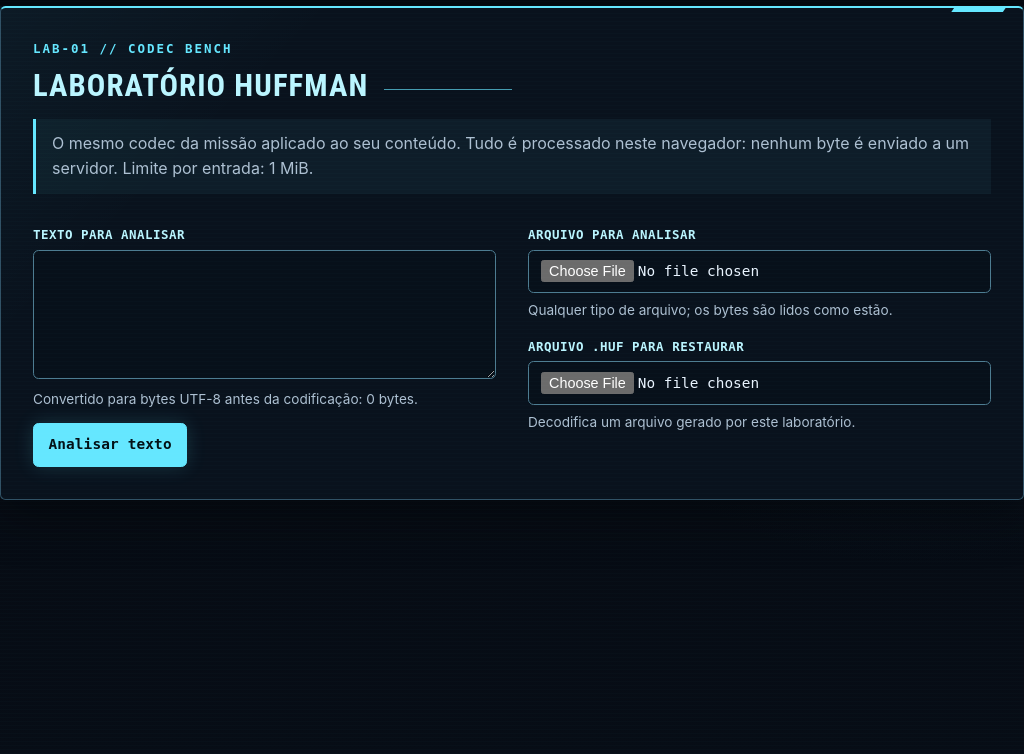
Scenario: LabTerminal › exibe o cabeçalho, as frequências com seus códigos e a árvore
This screenshot has width=1024, height=754.
Type "abracadabra abracadabra" into the text box labelled "Texto para analisar" at (264, 314), box [33,250,496,379]
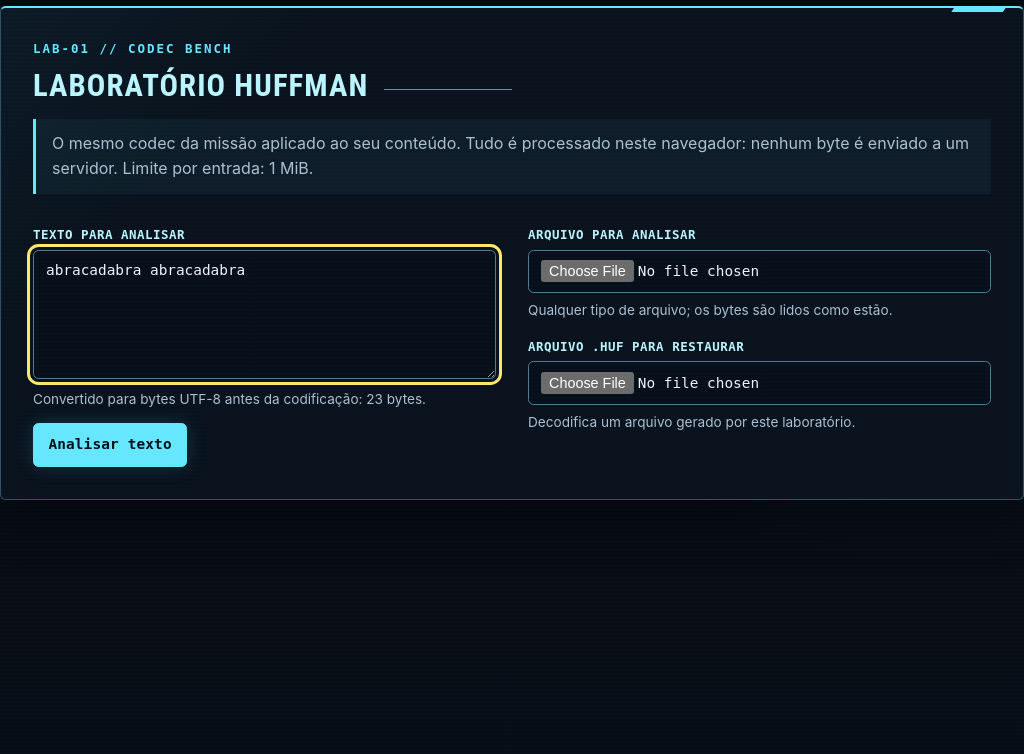
Click the button "Analisar texto" at (110, 445), box [33,423,187,467]
(page scrolled)
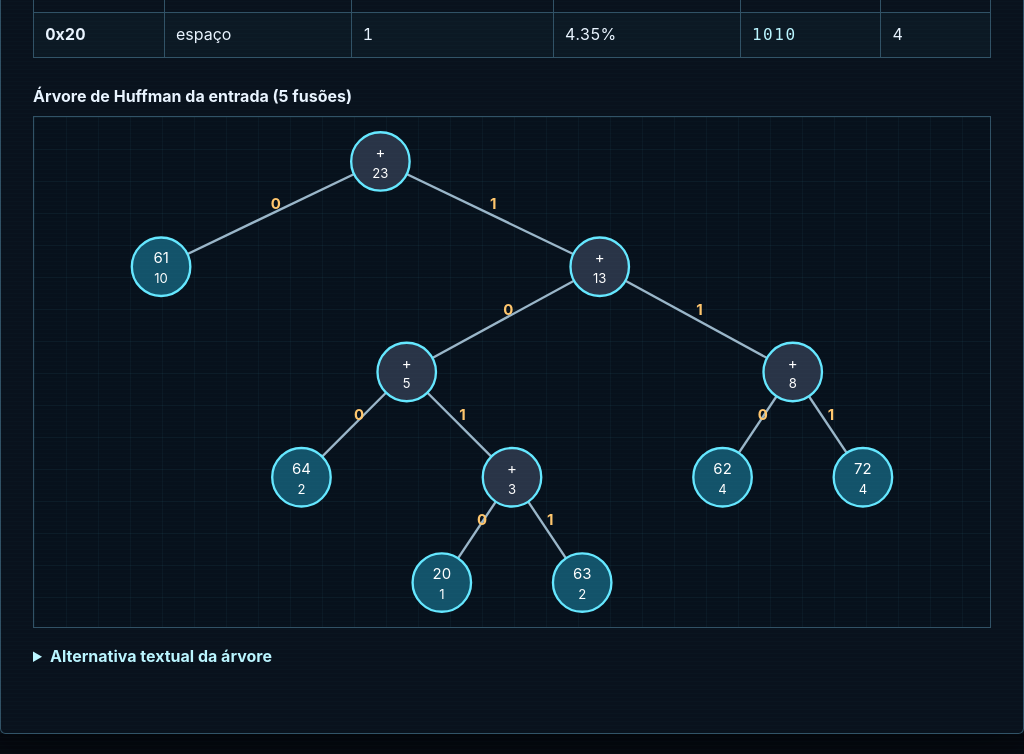
Result: the cell "espaço" is shown at [164,13,351,57]
Result: the picture named "Árvore de Huffman da entrada" is shown
Result: the heading "Alternativa textual da árvore" is shown at [33,640,272,673]
